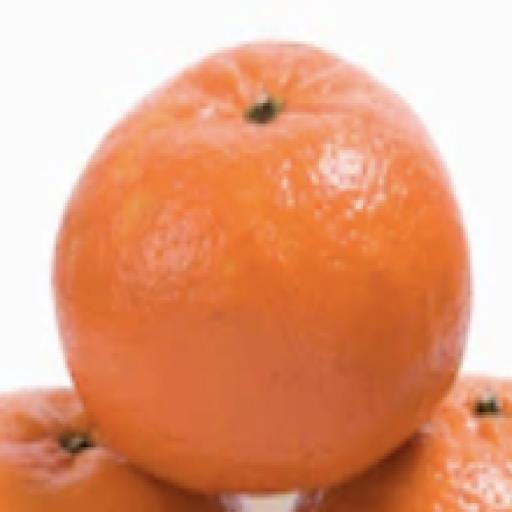orange: (54, 42, 470, 491), (296, 374, 511, 511), (0, 389, 239, 511)
